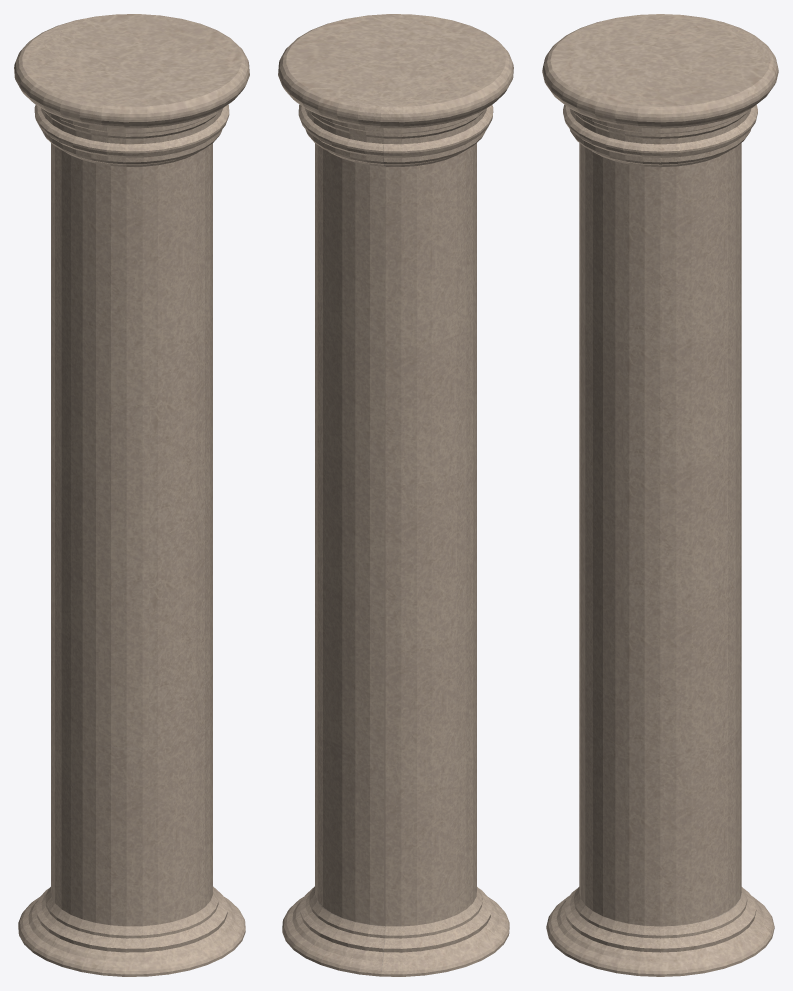
The model's file is columnTextured.fbx.
3 renders of one model, left to right at view 1: azimuth 30°, elevation 25°; view 2: azimuth 150°, elevation 25°; view 3: azimuth 270°, elevation 25°, orthographic.
Visible parts, largest first — view 1: Cylinder; view 2: Cylinder; view 3: Cylinder.
Boxes of the visible parts, bbox=[...] form: Cylinder: bbox=[14, 14, 249, 976]; Cylinder: bbox=[278, 14, 513, 976]; Cylinder: bbox=[542, 14, 778, 976].
Size of the model in its own units: 521 by 2112 by 521.
